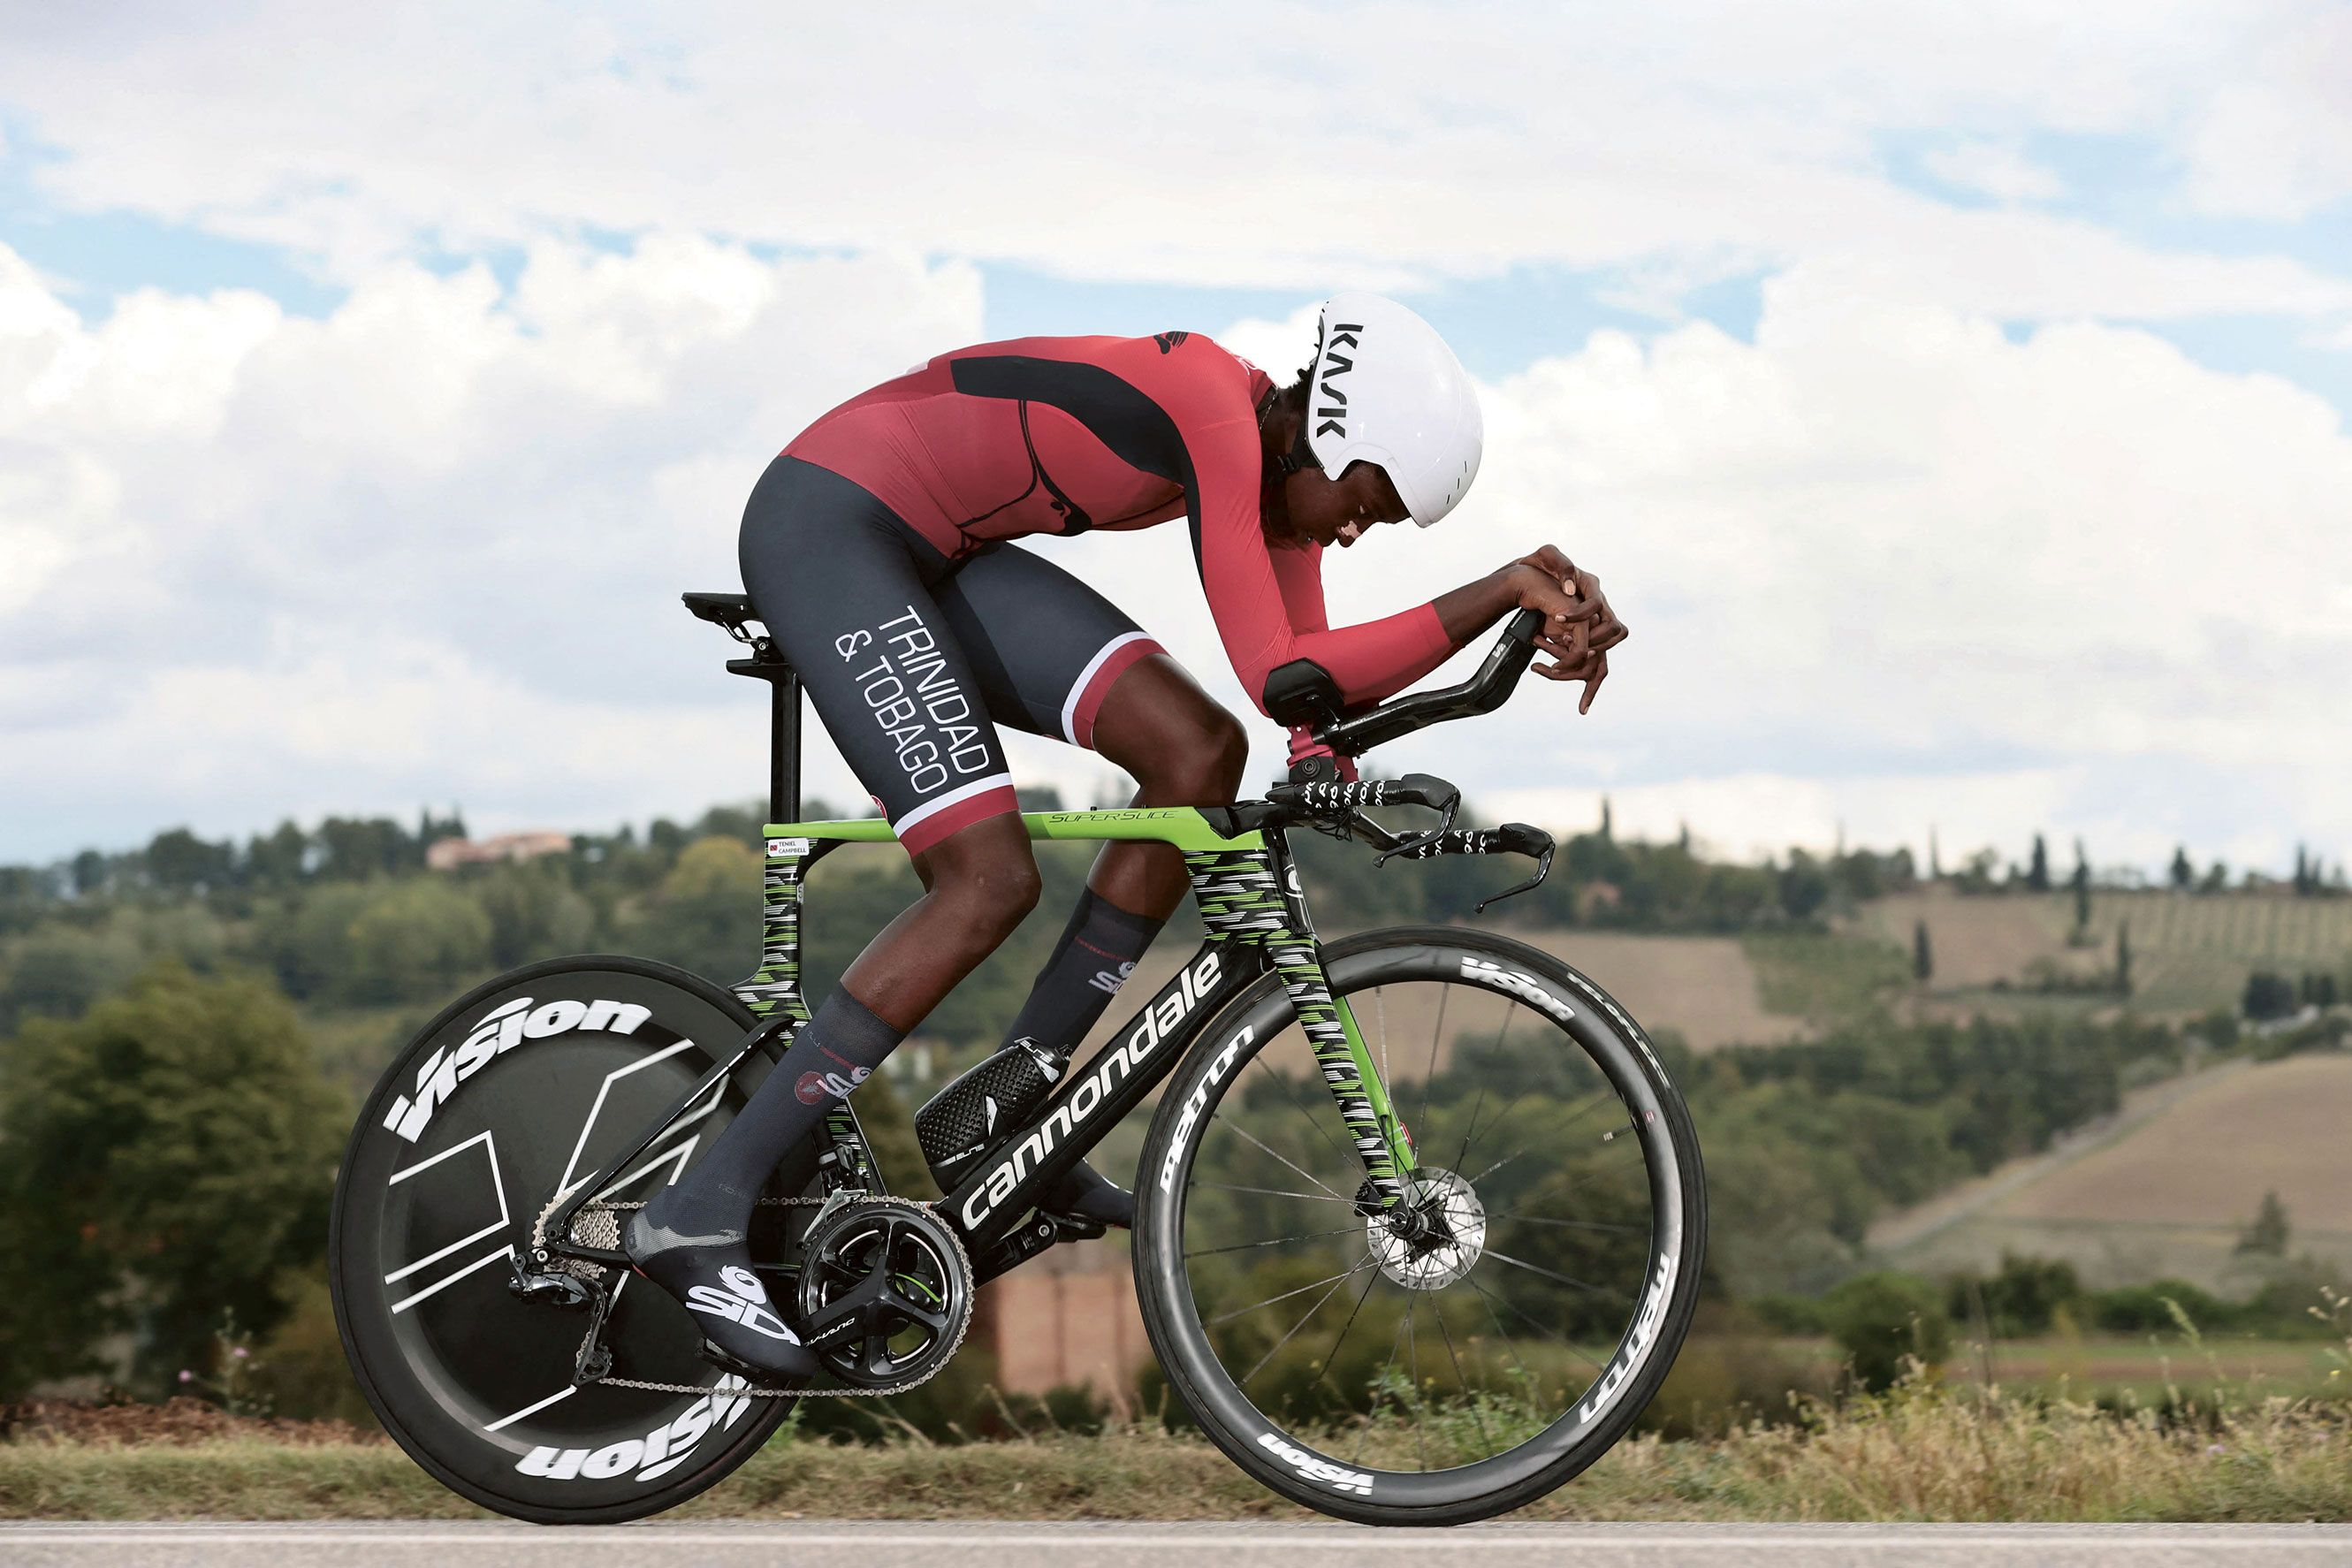bike: (319, 564, 1713, 1532)
person: (607, 290, 1636, 1391)
